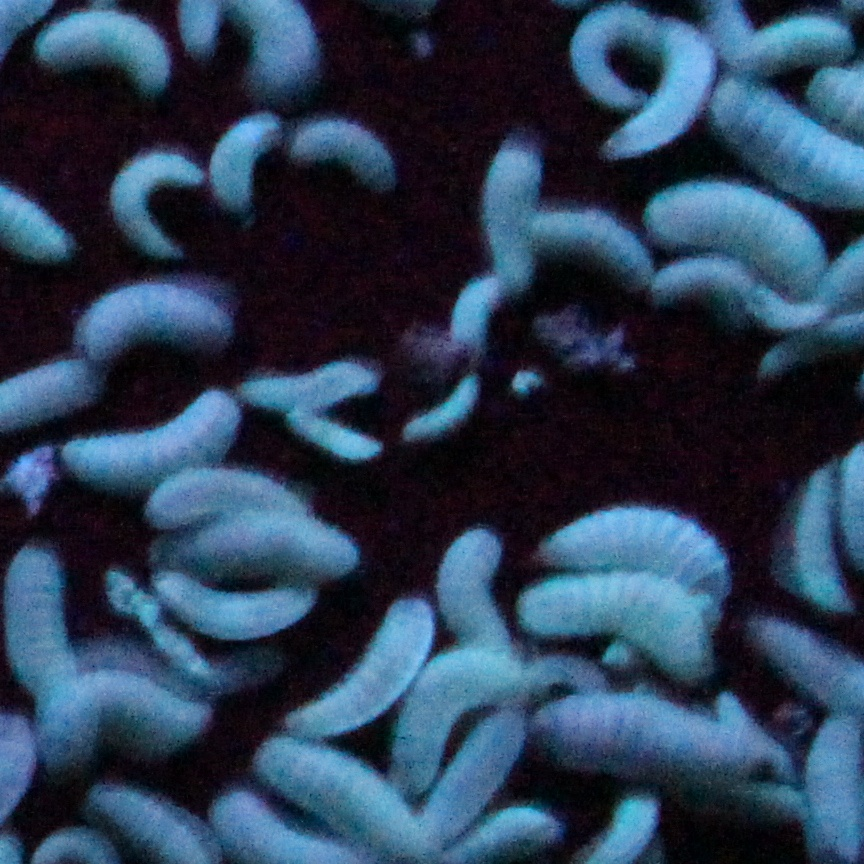larve: (536, 699, 751, 793), (293, 601, 435, 738), (33, 675, 222, 770), (269, 739, 422, 853), (654, 192, 820, 290), (528, 585, 700, 673), (152, 511, 371, 578), (400, 652, 511, 784), (423, 712, 531, 843), (539, 515, 717, 590), (82, 404, 238, 489), (149, 568, 315, 639), (615, 30, 707, 158), (96, 148, 202, 255), (779, 474, 851, 617), (70, 291, 230, 353), (429, 537, 518, 648), (538, 208, 656, 291), (486, 146, 549, 287), (576, 2, 657, 109), (57, 11, 161, 90), (730, 14, 854, 78), (203, 119, 281, 219), (291, 114, 400, 181), (242, 369, 383, 409), (403, 381, 487, 443), (287, 414, 385, 466)
